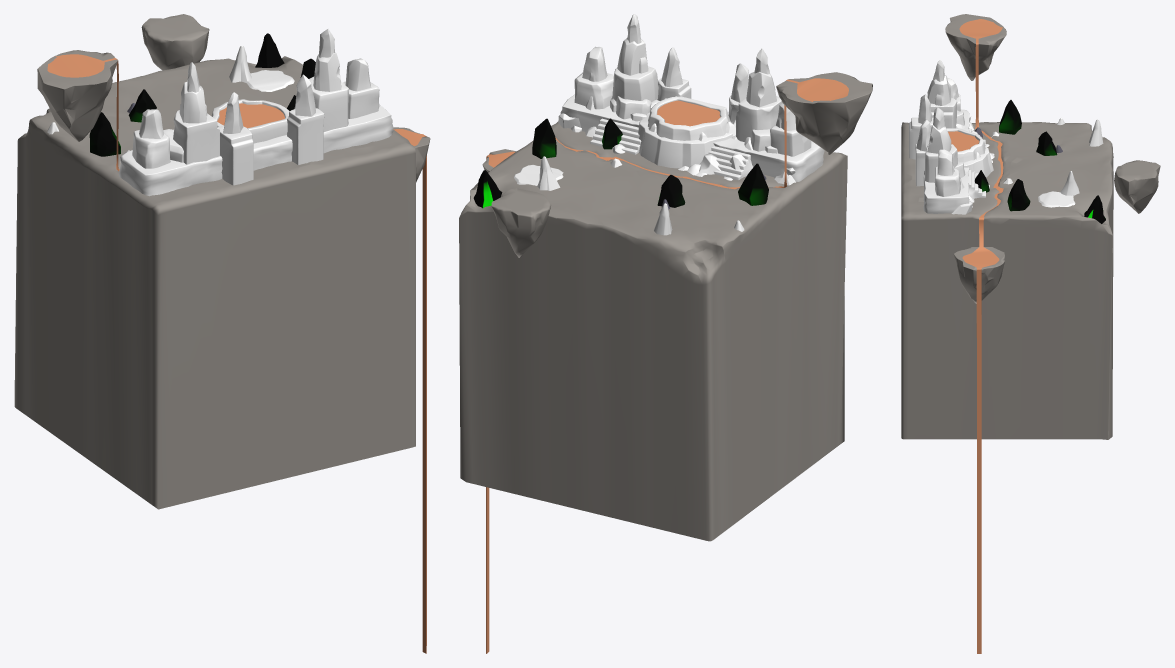
File: 3rd_Level.fbx
3 views of the same model, side by side, from view 1: azimuth 30°, elevation 25°; view 2: azimuth 150°, elevation 25°; view 3: azimuth 270°, elevation 25° (orthographic). The views are drawn at different scales.
Parts seen in each view (by area): view 1: Base, Main_Stage, LavaRiver, Floating_island2, Floating_island3, Plateau5, Plateau6, Plateau7, Plateau1, Plateau4, Lavaholder, LavaBasinTop (+10 smaller); view 2: Base, Main_Stage, Floating_island2, Floating_island3, LavaRiver, Cylinder, Lavaholder, Plateau1, Plateau5, LavaBasinTop, Plateau2, Plateau3 (+8 smaller); view 3: Base, LavaRiver, Floating_island2, Floating_island3, Main_Stage, Floating_island1, Plateau2, Obsidian_Spike4, Plateau8, Plateau3, Obsidian_Spike1, Lavaholder (+7 smaller).
Boxes of the visible parts, box(x1,y1,x2,y2) form: Base: box(14, 56, 415, 509); Main_Stage: box(118, 105, 393, 196); LavaRiver: box(47, 54, 426, 653); Floating_island2: box(37, 50, 117, 141); Floating_island3: box(141, 14, 209, 70); Plateau5: box(173, 110, 219, 164); Plateau6: box(218, 125, 253, 185); Plateau7: box(287, 108, 324, 164); Plateau1: box(309, 76, 348, 131); Plateau4: box(132, 130, 170, 168); Lavaholder: box(211, 99, 289, 141); LavaBasinTop: box(217, 103, 284, 128); Base: box(459, 121, 847, 541); Main_Stage: box(560, 94, 824, 182); Floating_island2: box(776, 72, 872, 154); Floating_island3: box(491, 188, 551, 257); LavaRiver: box(486, 78, 848, 653); Cylinder: box(638, 112, 732, 168); Lavaholder: box(648, 96, 730, 140); Plateau1: box(610, 66, 658, 112); Plateau5: box(736, 96, 782, 142); LavaBasinTop: box(657, 100, 720, 126); Plateau2: box(574, 72, 613, 109); Plateau3: box(617, 38, 648, 75); Base: box(901, 122, 1113, 439); LavaRiver: box(959, 19, 1003, 653); Floating_island2: box(945, 14, 1006, 80); Floating_island3: box(1114, 160, 1160, 213); Main_Stage: box(923, 109, 985, 213); Floating_island1: box(953, 247, 1004, 303); Plateau2: box(935, 166, 960, 196); Obsidian_Spike4: box(999, 100, 1021, 134); Plateau8: box(927, 75, 951, 105); Plateau3: box(927, 125, 951, 153); Obsidian_Spike1: box(1007, 179, 1030, 211); Lavaholder: box(946, 128, 985, 162).
Bounding box in the file's own units: 29.85 × 49.14 × 23.04.
